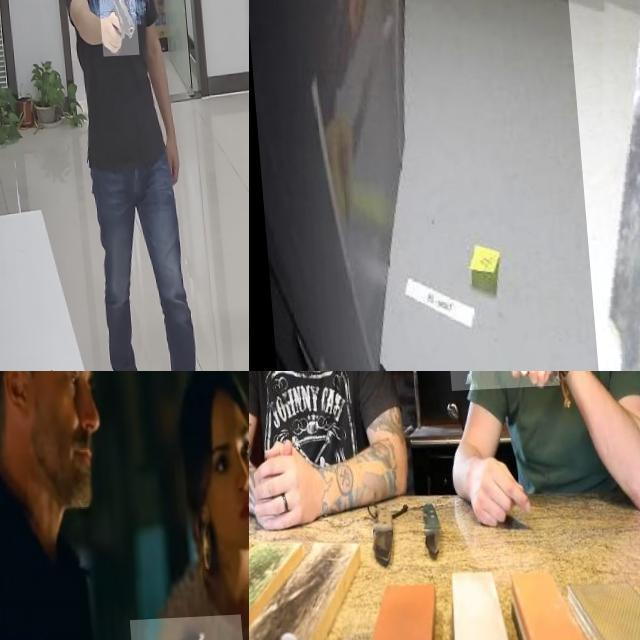-: (564, 0, 640, 371), (441, 371, 554, 416)
gun-knife-thesis - v11 Yolov5 augmented: (96, 0, 136, 58)
